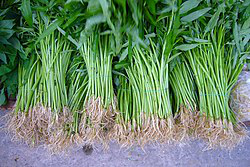Kangkung: (39, 10, 234, 115)
